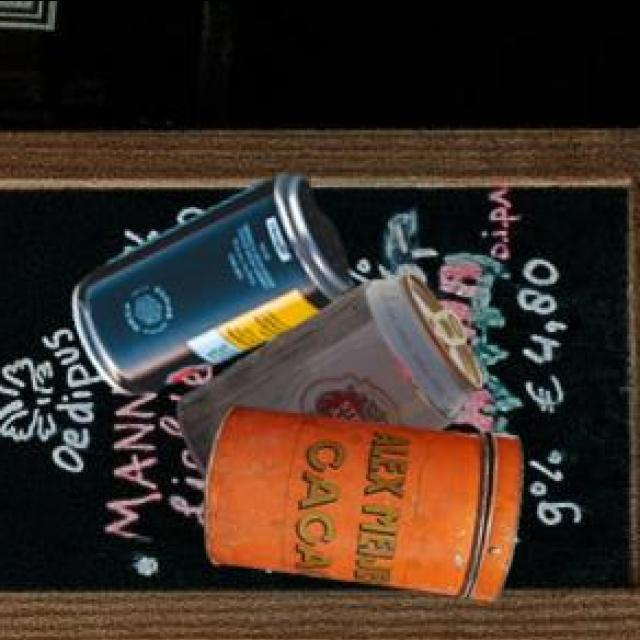logam: (174, 275, 479, 483), (203, 409, 518, 604), (69, 176, 347, 396)
